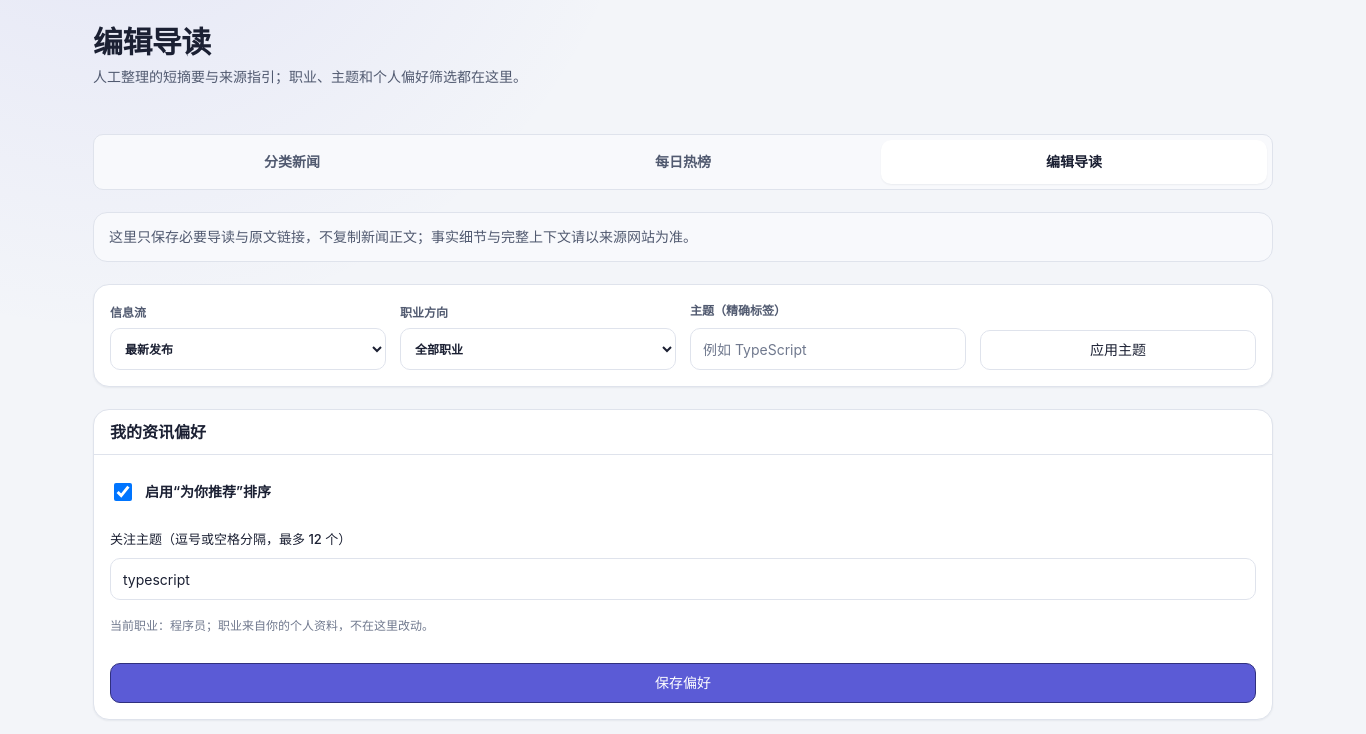
Test: community news public pages › keeps editorial profession, topic filtering and versioned preferences functional
Expected: the field showing "typescript" is shown, [110, 558, 1256, 600]
Select "程序员" in the dropdown labelled "职业方向": (538, 350) [400, 328, 676, 370]
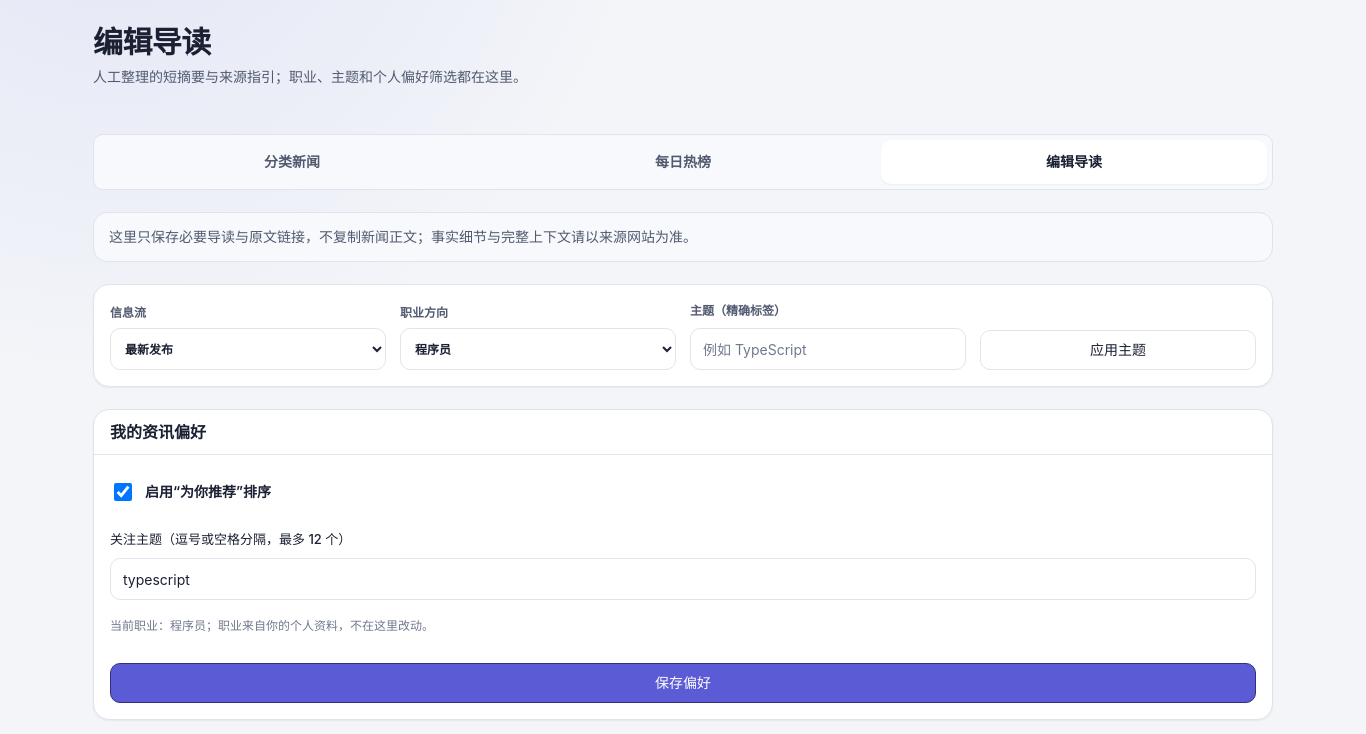
In the field labelled "主题（精确标签）": (828, 350) [690, 328, 966, 370], type "TypeScript"
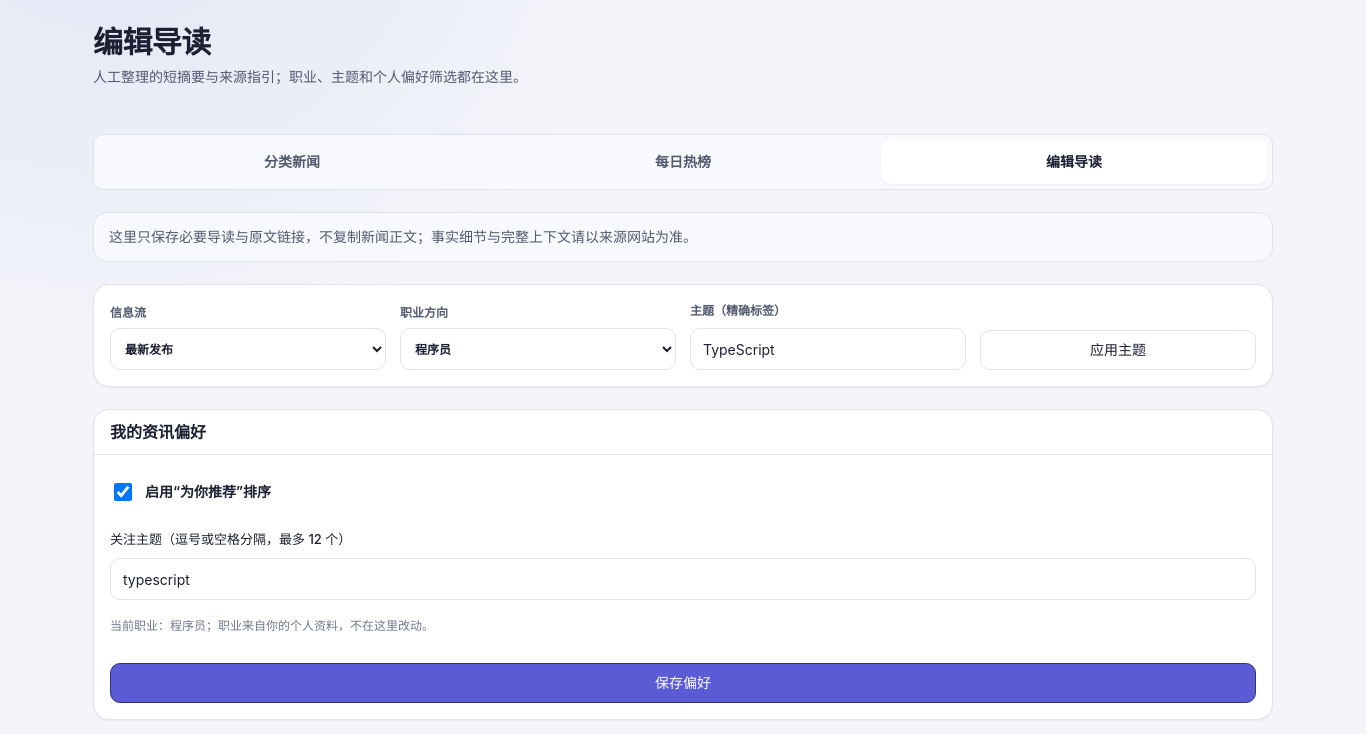
Click the button "应用主题": (1118, 350) [980, 330, 1256, 370]
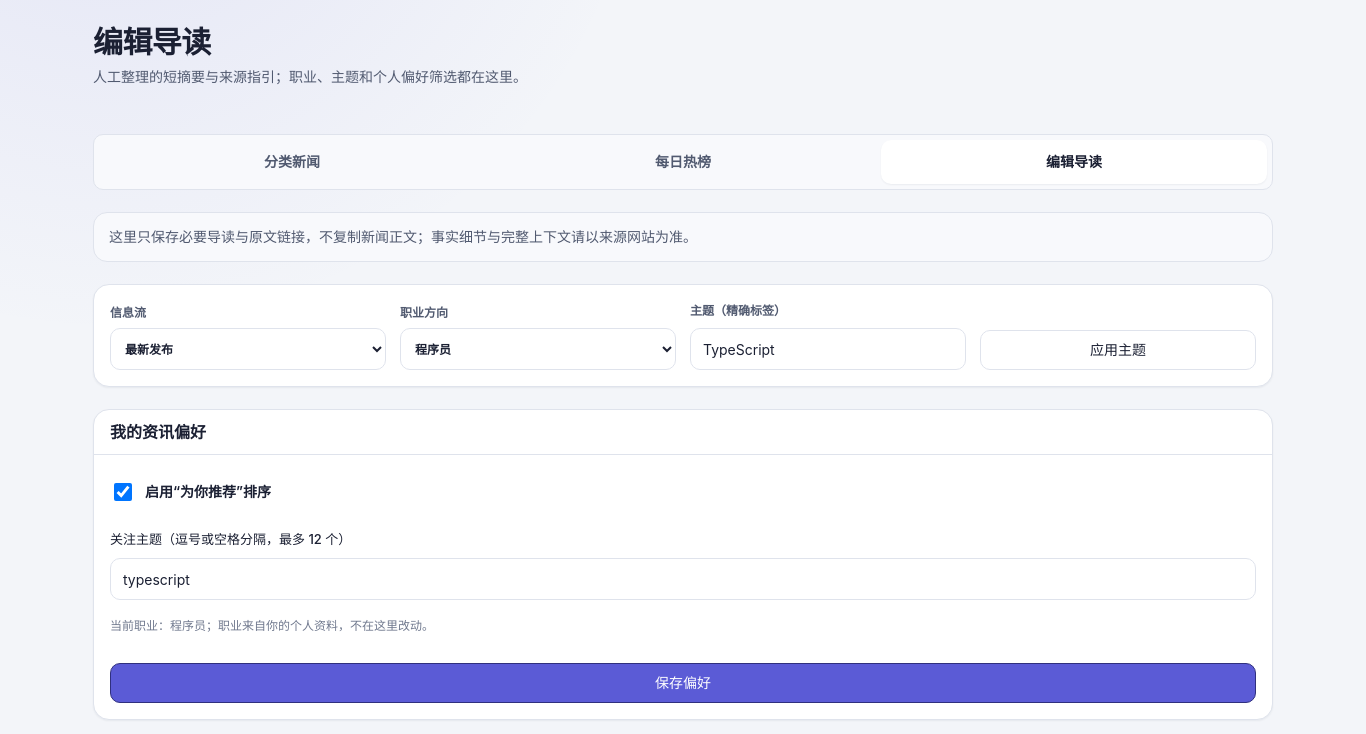
Click the button "保存偏好": (683, 684) [110, 664, 1256, 704]
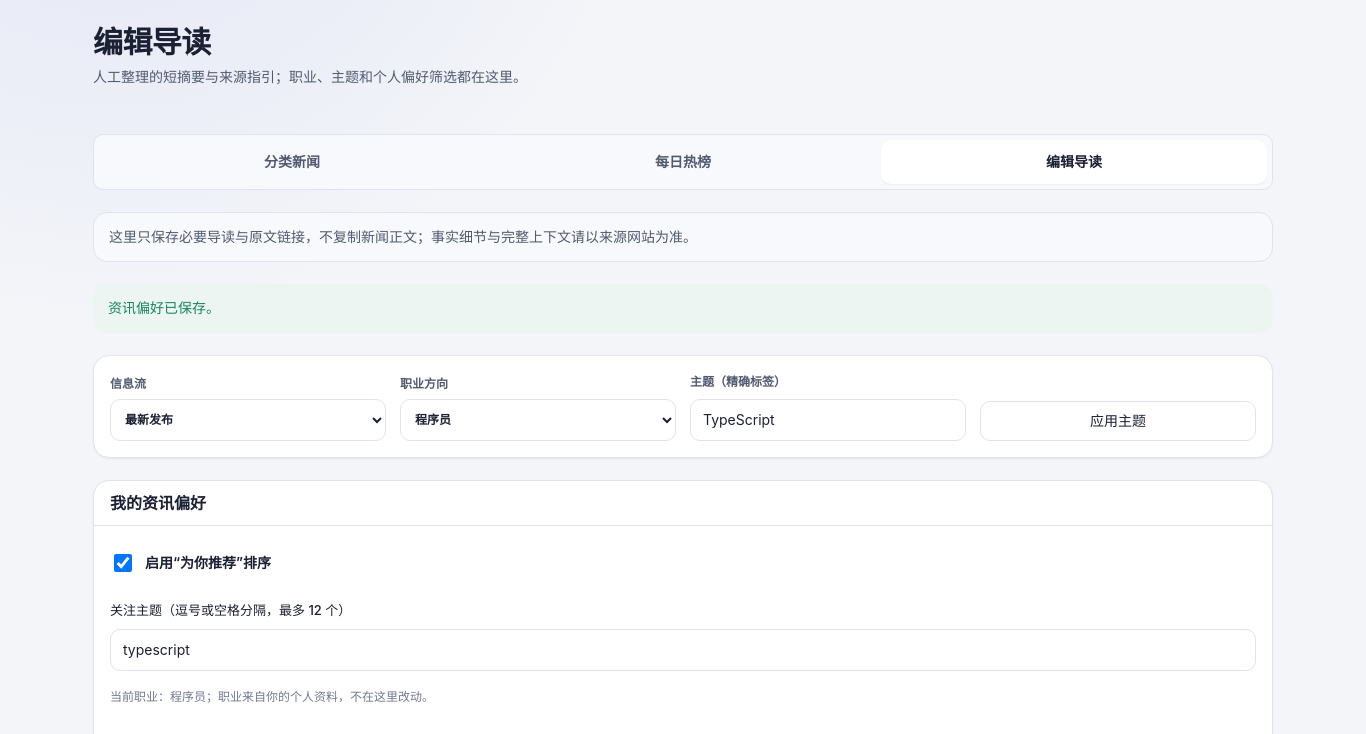
Result: the text "资讯偏好已保存。" is shown at [93, 284, 1273, 333]
